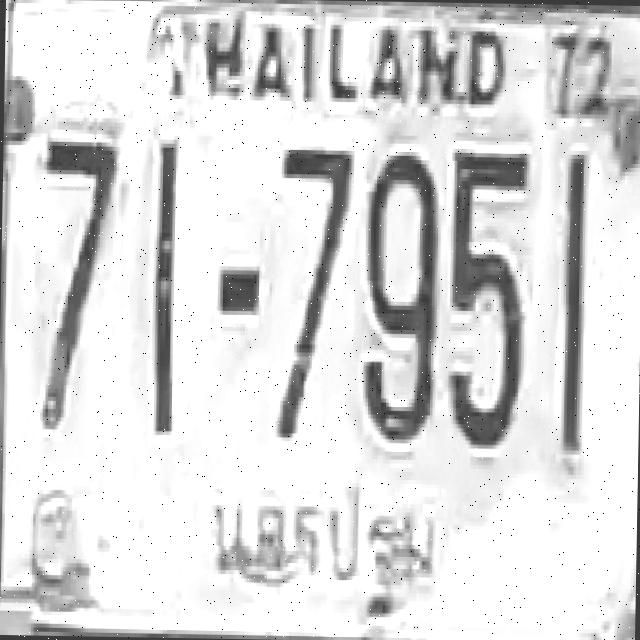1: (558, 152, 586, 460), (149, 133, 177, 433)
5: (446, 148, 528, 449)
7: (36, 136, 116, 430), (272, 145, 350, 438)
9: (360, 146, 438, 440)
NakhonPathom: (196, 472, 444, 620)
